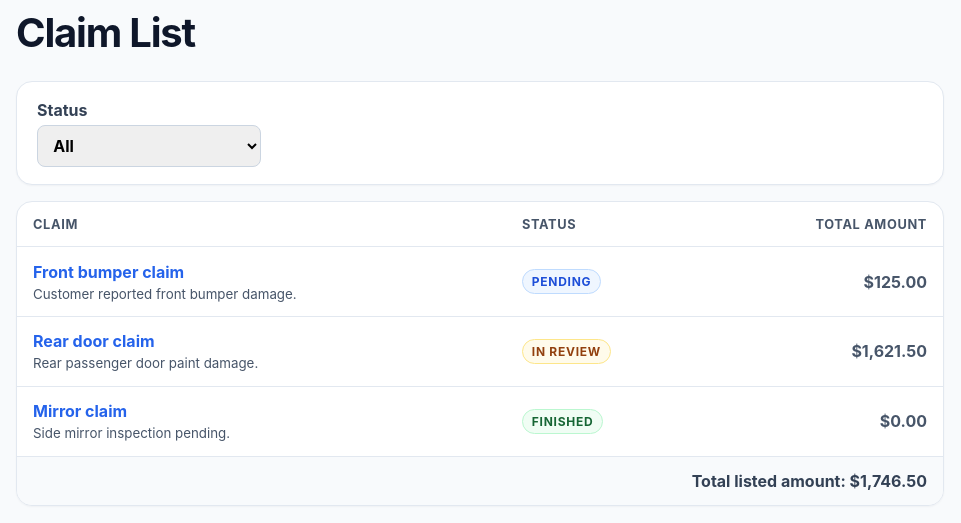
ClaimListComponent › shows filtered empty-state message when no claims match the selected status
Select "Pending" in the dropdown labelled "Status" at [149, 146], box [37,125,261,167]
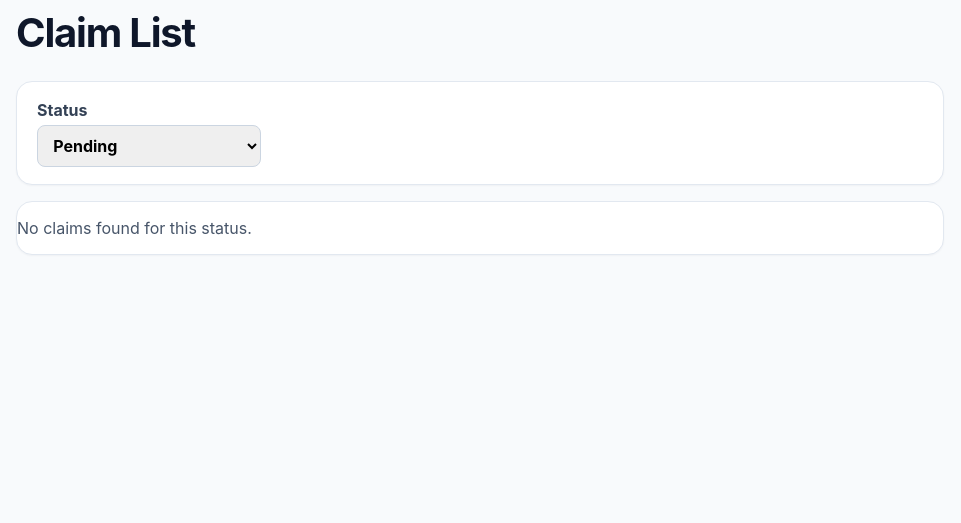
Expected: the text "No claims found for this status." is shown, [17,218,252,238]
